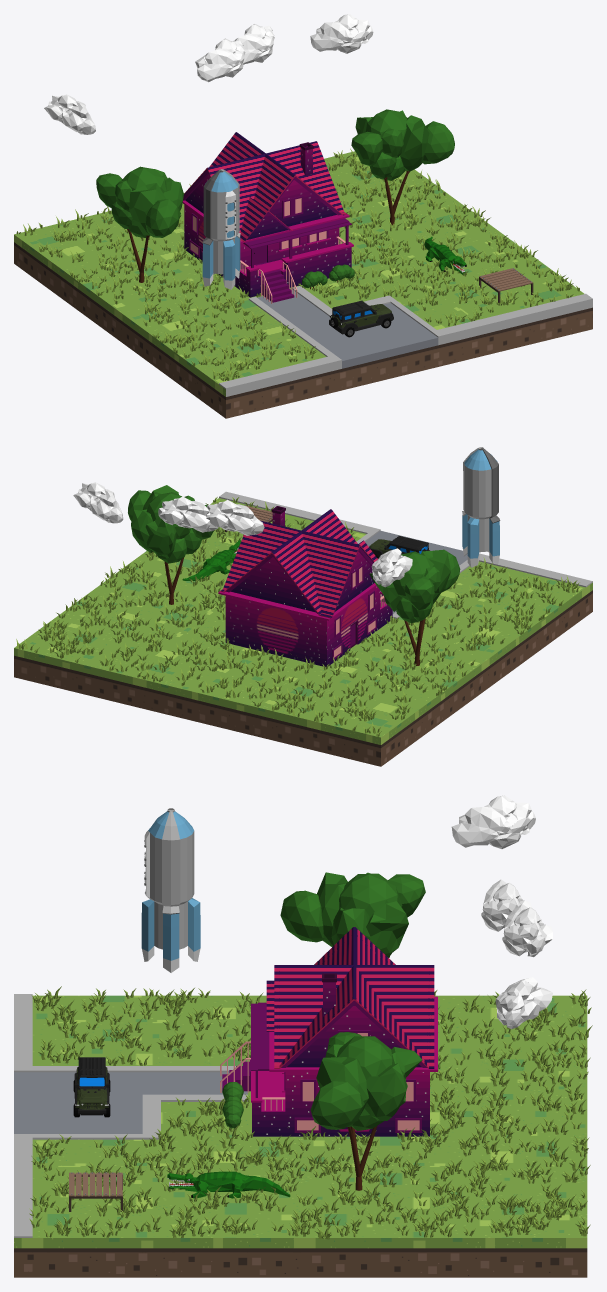
3 views of the same model, one above another, from view 1: azimuth 30°, elevation 25°; view 2: azimuth 150°, elevation 25°; view 3: azimuth 270°, elevation 25° (orthographic). The views are drawn at different scales.
Parts seen in each view (by area): view 1: Cube.006, Circle.012_Grass_0.192, Cube.156, Cube.007, tree, tree.001, OBJRANDOM_ROCKETSHIP, VEHICLES_JEEP, Cube.009, ANIMAL_COCODRILO; view 2: Cube.006, Cube.156, Circle.012_Grass_0.192, Cube.007, OBJRANDOM_ROCKETSHIP, tree.001, tree, ANIMAL_COCODRILO, VEHICLES_JEEP; view 3: Cube.006, Circle.012_Grass_0.192, Cube.156, tree, Cube.007, tree.001, OBJRANDOM_ROCKETSHIP, VEHICLES_JEEP, ANIMAL_COCODRILO, Cube.009.
Part boxes in pixels (x1,y1,x2,y2): Cube.006: (14,151,592,418); Circle.012_Grass_0.192: (16,148,579,381); Cube.156: (182,132,353,303); Cube.007: (44,14,373,134); tree: (351,109,454,225); tree.001: (96,166,183,282); OBJRANDOM_ROCKETSHIP: (202,169,240,289); VEHICLES_JEEP: (329,300,393,337); Cube.009: (479,268,533,302); ANIMAL_COCODRILO: (424,236,466,274); Cube.006: (14,491,592,766); Cube.156: (218,506,392,666); Circle.012_Grass_0.192: (16,497,579,736); Cube.007: (73,482,412,587); OBJRANDOM_ROCKETSHIP: (462,447,500,567); tree.001: (369,549,460,665); tree: (128,485,213,604); ANIMAL_COCODRILO: (182,540,241,580); VEHICLES_JEEP: (369,535,429,558); Cube.006: (14,994,587,1277); Circle.012_Grass_0.192: (29,986,592,1239); Cube.156: (220,927,437,1136); tree: (310,1032,422,1190); Cube.007: (451,795,552,1029); tree.001: (280,872,425,957); OBJRANDOM_ROCKETSHIP: (141,808,200,972); VEHICLES_JEEP: (73,1057,110,1117); ANIMAL_COCODRILO: (167,1171,290,1198); Cube.009: (69,1172,122,1211).
Bounding box in the file's own units: 4071 × 2277 × 4040.
35 materials, 5 textured.
